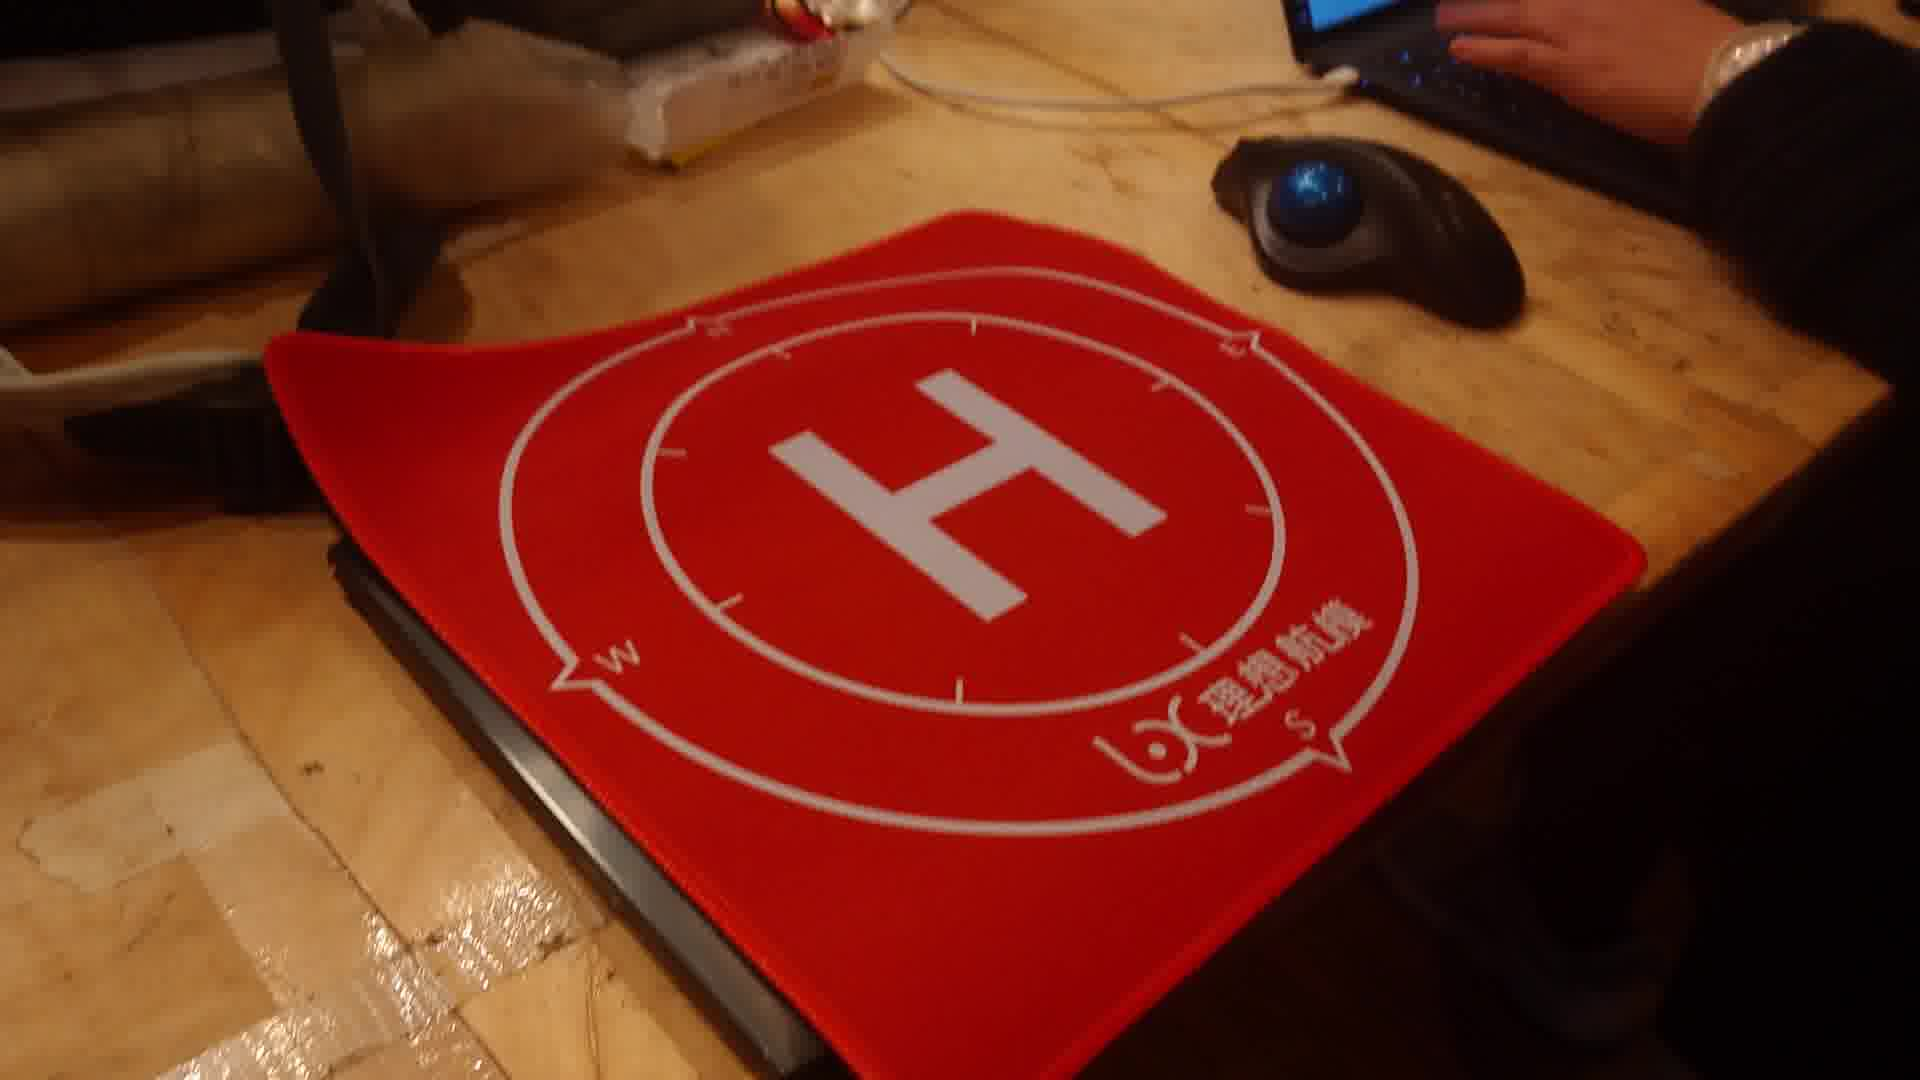H: (769, 367, 1168, 622)
